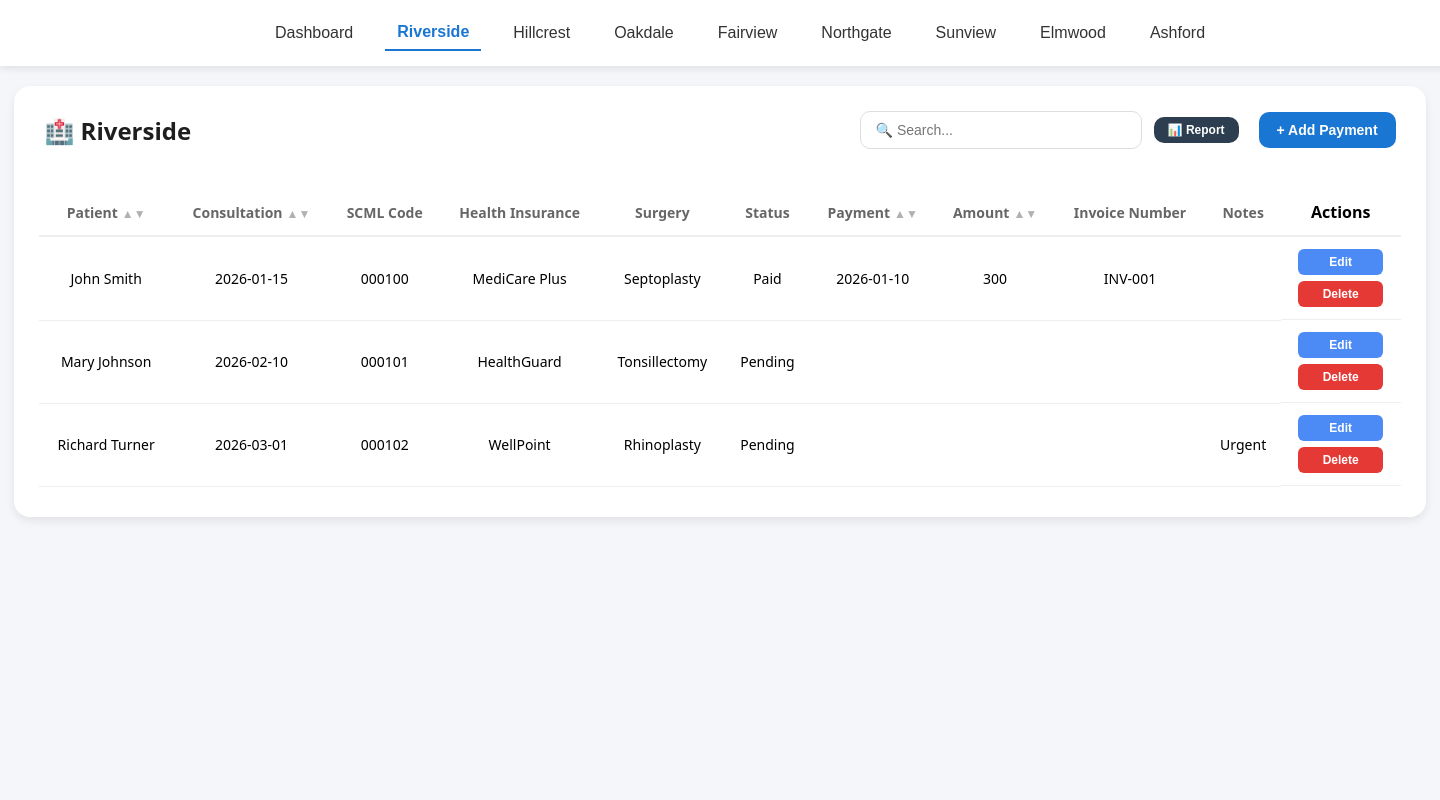
Client CRUD - Riverside › should open the delete options modal when clicking Delete on a client
Expected: the table with class "styled-table" is shown, [39,189,1400,487]
What coordinates should you click on to do the following:
click the button "Delete" in the row of "John Smith"
I would click on:
 (1341, 294)
Its box is [1298,281,1383,307].
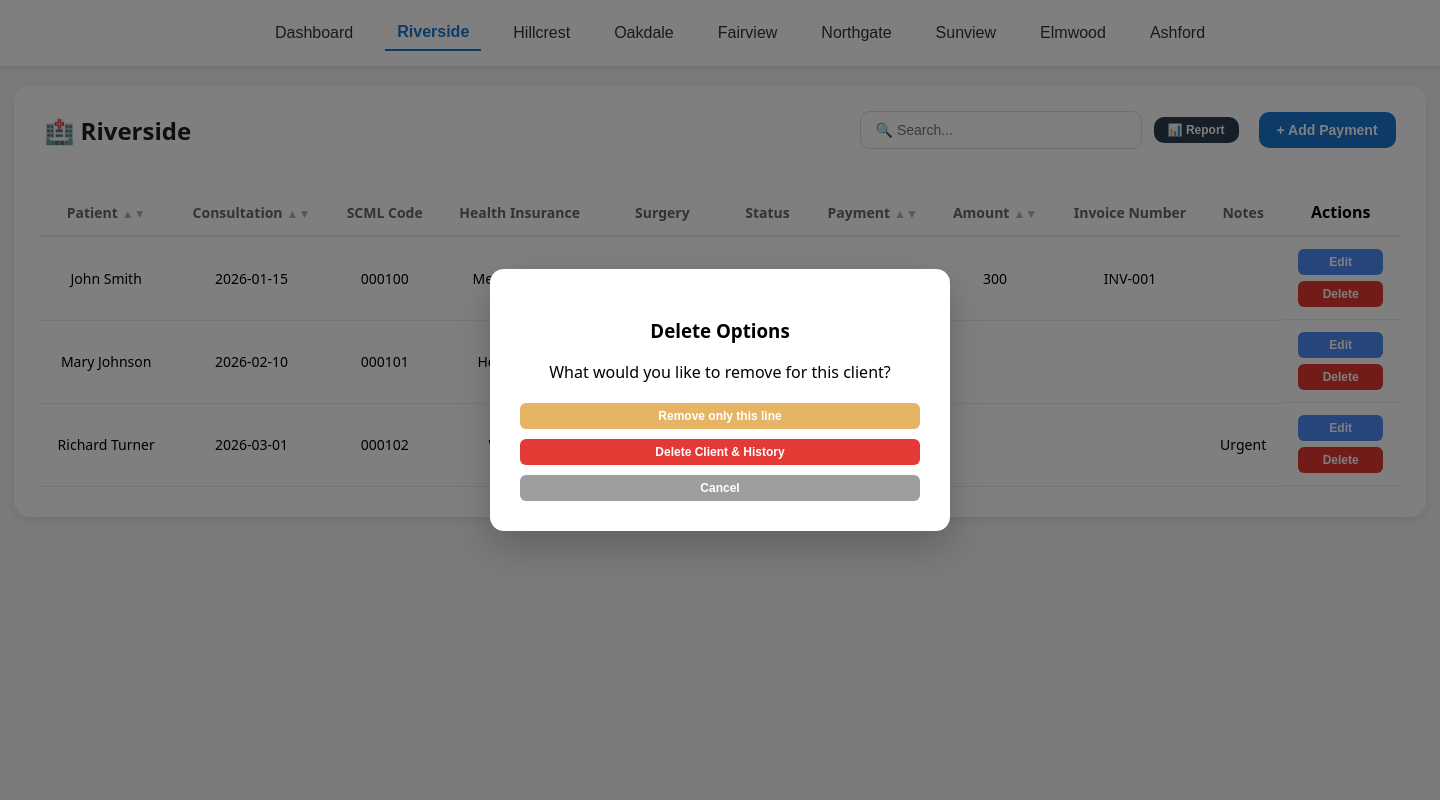
Now the element with class "modal-backdrop" is shown
Now the heading "Delete Options" is shown, box [650,318,790,342]
